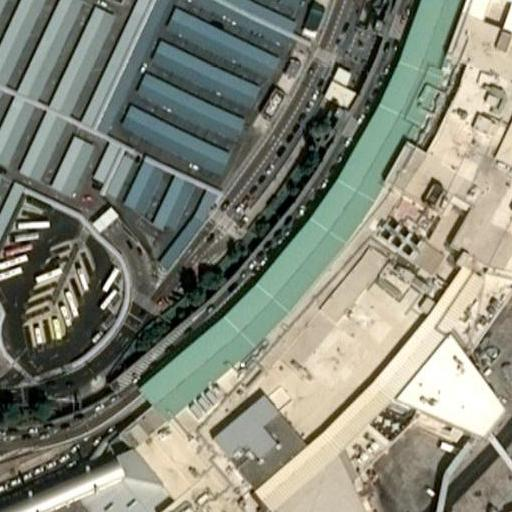Aircraft: (443, 503, 512, 512)
